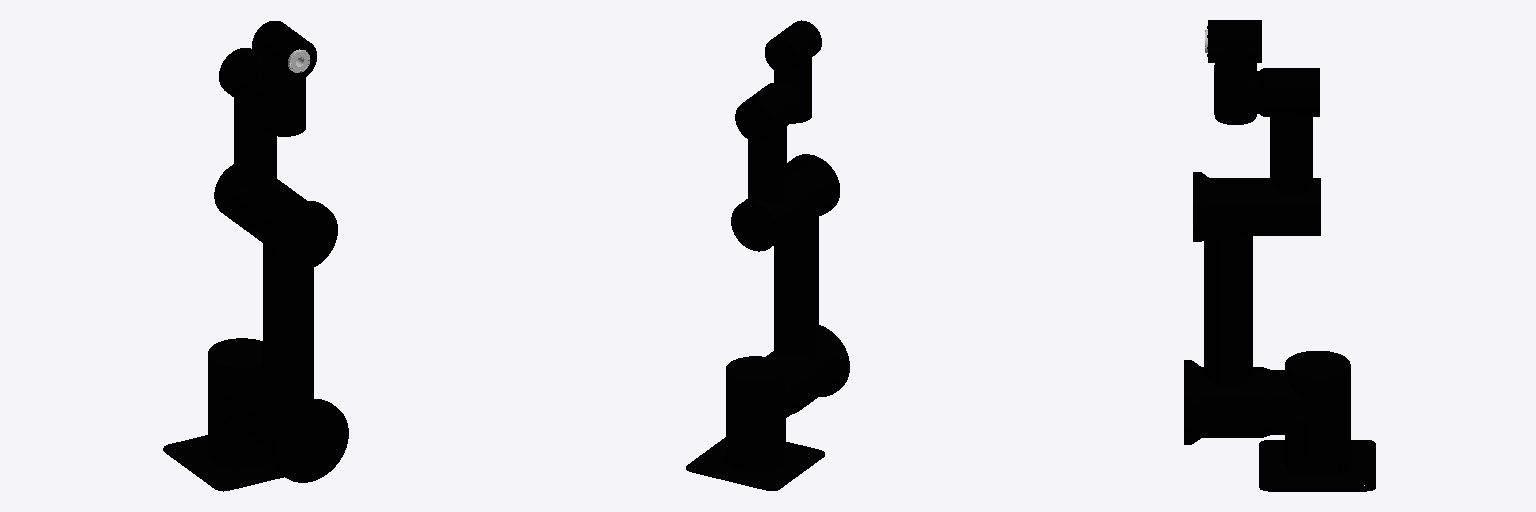
URDF robot description (pr15):
<?xml version="1.0"?>
<!-- created with Phobos 1.0.1 "Capricious Choutengan" -->
  <robot name="pr15">

    <link name="world"/>
    <joint name="world_fixed" type="fixed">
      <origin xyz="0.0 0.0 0.0" rpy="0 0 0"/>
      <parent link="world"/>
      <child link="pr15_base_link"/>
    </joint>


    <link name="pr15_base_link">
      <inertial>
        <origin xyz="0 0 0" rpy="0 0 0"/>
        <mass value="4.021"/>
        <inertia ixx="0.01299" ixy="0" ixz="0" iyy="0.01299" iyz="0" izz="0.02208"/>
      </inertial>
      <visual name="base_link">
        <origin xyz="0 0 0" rpy="0 0 0"/>
        <geometry>
          <mesh filename="package://pr_description/resource/meshes/visual/base_link.dae" scale="1.0 1.0 1.0"/>
        </geometry>
      </visual>
      <collision name="base_link">
        <origin xyz="0 0 0.02559" rpy="0 0 0"/>
        <geometry>
          <mesh filename="package://pr_description/resource/meshes/collision/base_link_collision.stl" scale="1.0 1.0 1.0"/>
        </geometry>
      </collision>
    </link>

    <link name="pr15_forearm_link">
      <inertial>
        <origin xyz="0 0 0" rpy="0 0 0"/>
        <mass value="2.311"/>
        <inertia ixx="0.03241" ixy="0" ixz="0" iyy="0.03123" iyz="0" izz="0.00438"/>
      </inertial>
      <visual name="forearm_link">
        <origin xyz="0 0 0" rpy="1.5708 0 0"/>
        <geometry>
          <mesh filename="package://pr_description/resource/meshes/visual/forearm_link.dae" scale="1.0 1.0 1.0"/>
        </geometry>
      </visual>
      <collision name="forearm_link">
        <origin xyz="0 0 0.0401" rpy="3.14159 0 0"/>
        <geometry>
          <mesh filename="package://pr_description/resource/meshes/collision/forearm_link_collision.stl" scale="1.0 1.0 1.0"/>
        </geometry>
      </collision>
    </link>

    <link name="pr15_shoulder_link">
      <inertial>
        <origin xyz="0 0 0" rpy="0 0 0"/>
        <mass value="3.661"/>
        <inertia ixx="0.01843" ixy="0" ixz="0" iyy="0.01419" iyz="0" izz="0.01341"/>
      </inertial>
      <visual name="shoulder_link">
        <origin xyz="0 0 0" rpy="0 0 0"/>
        <geometry>
          <mesh filename="package://pr_description/resource/meshes/visual/shoulder_link.dae" scale="1.0 1.0 1.0"/>
        </geometry>
      </visual>
      <collision name="shoulder_link">
        <origin xyz="0 -0.06036 0" rpy="1.5708 0 0"/>
        <geometry>
          <mesh filename="package://pr_description/resource/meshes/collision/shoulder_link_collision.stl" scale="1.0 1.0 1.0"/>
        </geometry>
      </collision>
    </link>

    <link name="pr15_upperarm_link">
      <inertial>
        <origin xyz="0 0 0" rpy="0 0 0"/>
        <mass value="8.341"/>
        <inertia ixx="0.30658" ixy="0" ixz="0" iyy="0.2933" iyz="0" izz="0.03147"/>
      </inertial>
      <visual name="upperarm_link">
        <origin xyz="0 0 0" rpy="1.5708 0 0"/>
        <geometry>
          <mesh filename="package://pr_description/resource/meshes/visual/upperarm_link.dae" scale="1.0 1.0 1.0"/>
        </geometry>
      </visual>
      <collision name="upperarm_link">
        <origin xyz="0 0 -0.09325" rpy="3.14159 0 0"/>
        <geometry>
          <mesh filename="package://pr_description/resource/meshes/collision/upperarm_link_collision.stl" scale="1.0 1.0 1.0"/>
        </geometry>
      </collision>
    </link>

    <link name="pr15_wrist1_link">
      <inertial>
        <origin xyz="0 0 0" rpy="0 0 0"/>
        <mass value="1.291"/>
        <inertia ixx="0.0025" ixy="0" ixz="0" iyy="0.00208" iyz="0" izz="0.00177"/>
      </inertial>
      <visual name="wrist1_link">
        <origin xyz="0 0 0" rpy="1.5708 0 0"/>
        <geometry>
          <mesh filename="package://pr_description/resource/meshes/visual/wrist1_link.dae" scale="1.0 1.0 1.0"/>
        </geometry>
      </visual>
      <collision name="wrist1_link">
        <origin xyz="0 -0.00465 -0.055" rpy="1.5708 0 0"/>
        <geometry>
          <mesh filename="package://pr_description/resource/meshes/collision/wrist1_link_collision.stl" scale="1.0 1.0 1.0"/>
        </geometry>
      </collision>
    </link>

    <link name="pr15_wrist2_link">
      <inertial>
        <origin xyz="0 0 0" rpy="0 0 0"/>
        <mass value="1.291"/>
        <inertia ixx="0.0025" ixy="0" ixz="0" iyy="0.00208" iyz="0" izz="0.00177"/>
      </inertial>
      <visual name="wrist2_link">
        <origin xyz="0 0 0" rpy="0 0 0"/>
        <geometry>
          <mesh filename="package://pr_description/resource/meshes/visual/wrist2_link.dae" scale="1.0 1.0 1.0"/>
        </geometry>
      </visual>
      <collision name="wrist2_link">
        <origin xyz="0 -0.00307 0.055" rpy="1.5708 0 0"/>
        <geometry>
          <mesh filename="package://pr_description/resource/meshes/collision/wrist2_link_collision.stl" scale="1.0 1.0 1.0"/>
        </geometry>
      </collision>
    </link>

    <link name="pr15_wrist3_link">
      <inertial>
        <origin xyz="0 0 0" rpy="0 0 0"/>
        <mass value="0.001"/>
        <inertia ixx="0.001" ixy="0" ixz="0" iyy="0.001" iyz="0" izz="0.001"/>
      </inertial>
    </link>

    <joint name="pr15_elbow_joint" type="revolute">
      <origin xyz="0 -0.46 0" rpy="0 0 0"/>
      <parent link="pr15_upperarm_link"/>
      <child link="pr15_forearm_link"/>
      <axis xyz="0 0 1.0"/>
      <limit lower="-3.14" upper="3.14" effort="0" velocity="0"/>
    </joint>

    <joint name="pr15_shoulder_pan_joint" type="revolute">
      <origin xyz="0 0 0.151" rpy="0 0 0"/>
      <parent link="pr15_base_link"/>
      <child link="pr15_shoulder_link"/>
      <axis xyz="0 0 1.0"/>
      <limit lower="-3.14" upper="3.14" effort="0" velocity="0"/>
    </joint>

    <joint name="pr15_shoulder_lift_joint" type="revolute">
      <origin xyz="0 -0.1 0" rpy="-1.5708 0 0"/>
      <parent link="pr15_shoulder_link"/>
      <child link="pr15_upperarm_link"/>
      <axis xyz="0 0 1.0"/>
      <limit lower="-3.14" upper="3.14" effort="0" velocity="0"/>
    </joint>

    <joint name="pr15_wrist1_joint" type="revolute">
      <origin xyz="0 -0.27 -0.0205" rpy="0 0 0"/>
      <parent link="pr15_forearm_link"/>
      <child link="pr15_wrist1_link"/>
      <axis xyz="0 0 1.0"/>
      <limit lower="-3.14" upper="3.14" effort="0" velocity="0"/>
    </joint>

    <joint name="pr15_wrist2_joint" type="revolute">
      <origin xyz="0 -0.065 -0.055" rpy="1.5708 0 0"/>
      <parent link="pr15_wrist1_link"/>
      <child link="pr15_wrist2_link"/>
      <axis xyz="0 0 1.0"/>
      <limit lower="-3.14" upper="3.14" effort="0" velocity="0"/>
    </joint>

    <joint name="pr15_wrist3_joint" type="revolute">
      <origin xyz="0 -0.065 0.055" rpy="-1.5708 0 0"/>
      <parent link="pr15_wrist2_link"/>
      <child link="pr15_wrist3_link"/>
      <axis xyz="0 0 1.0"/>
      <limit lower="-3.14" upper="3.14" effort="0" velocity="0"/>
    </joint>

  </robot>

--- Facts derived from the render (not from the file) ---
The picture shows the robot from 3 angles, left to right: view 1: azimuth 30°, elevation 25°; view 2: azimuth 150°, elevation 25°; view 3: azimuth 270°, elevation 25°; orthographic projection.
Model pr15 with 8 links and 7 joints (6 revolute, 1 fixed), rooted at world, posed all joints at 0.
Links seen in each view (by area): view 1: pr15_upperarm_link, pr15_forearm_link, pr15_shoulder_link, pr15_base_link, pr15_wrist2_link, pr15_wrist1_link; view 2: pr15_upperarm_link, pr15_forearm_link, pr15_shoulder_link, pr15_base_link, pr15_wrist2_link, pr15_wrist1_link; view 3: pr15_upperarm_link, pr15_forearm_link, pr15_shoulder_link, pr15_base_link, pr15_wrist2_link, pr15_wrist1_link.
Boxes of the visible links, x1,y1,x2,y2 form: pr15_upperarm_link: (237,183,348,482); pr15_forearm_link: (214,48,287,233); pr15_shoulder_link: (208,338,262,452); pr15_base_link: (163,435,283,491); pr15_wrist2_link: (252,21,316,83); pr15_wrist1_link: (254,77,305,136); pr15_upperarm_link: (766,154,849,414); pr15_forearm_link: (731,83,804,251); pr15_shoulder_link: (726,356,807,456); pr15_base_link: (686,437,824,490); pr15_wrist2_link: (765,20,821,78); pr15_wrist1_link: (774,71,811,123); pr15_upperarm_link: (1184,172,1270,444); pr15_forearm_link: (1258,68,1320,235); pr15_shoulder_link: (1263,351,1350,460); pr15_base_link: (1259,440,1375,491); pr15_wrist2_link: (1205,20,1261,76); pr15_wrist1_link: (1214,65,1257,124).
Size in the robot's own frame: 0.25 by 0.411 by 1.05 metres.
Meshes: 6 distinct files referenced, 6 mesh visuals loaded (6 Collada DAE).
